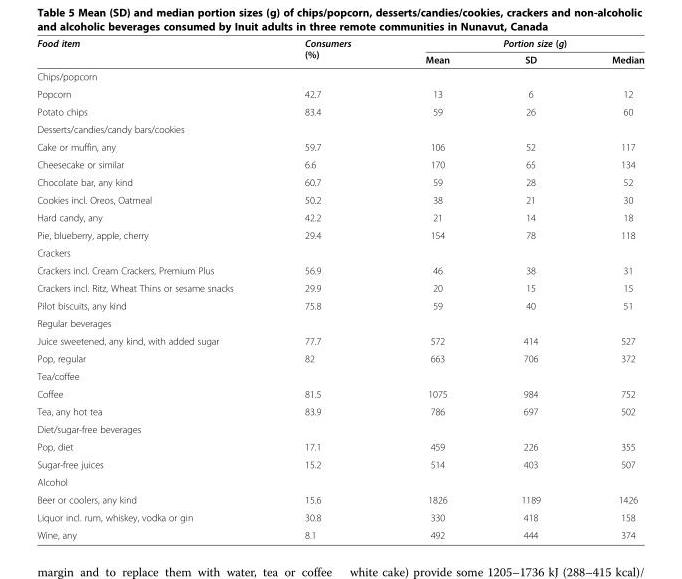table: (36, 37, 643, 540)
table column: (36, 37, 268, 540), (268, 37, 387, 540), (387, 37, 484, 540), (484, 37, 575, 540), (575, 37, 643, 540)
table column header: (36, 37, 643, 67)
table projected row header: (36, 243, 643, 261), (36, 472, 643, 490), (36, 67, 643, 84), (36, 120, 643, 137), (36, 314, 643, 331), (36, 367, 643, 384), (36, 420, 643, 437)
table row: (36, 84, 643, 102), (36, 102, 643, 120), (36, 137, 643, 155), (36, 155, 643, 173), (36, 190, 643, 208), (36, 208, 643, 226), (36, 243, 643, 261), (36, 278, 643, 296), (36, 296, 643, 314), (36, 331, 643, 349), (36, 349, 643, 367), (36, 384, 643, 402), (36, 402, 643, 420), (36, 437, 643, 455), (36, 472, 643, 490), (36, 490, 643, 508), (36, 67, 643, 84), (36, 120, 643, 137), (36, 173, 643, 190), (36, 226, 643, 243), (36, 261, 643, 278), (36, 314, 643, 331), (36, 367, 643, 384), (36, 420, 643, 437), (36, 455, 643, 472), (36, 508, 643, 525), (36, 51, 643, 67), (36, 525, 643, 540), (36, 37, 643, 51)
table spanning cell: (36, 37, 268, 67), (387, 37, 643, 51), (268, 37, 387, 67)
